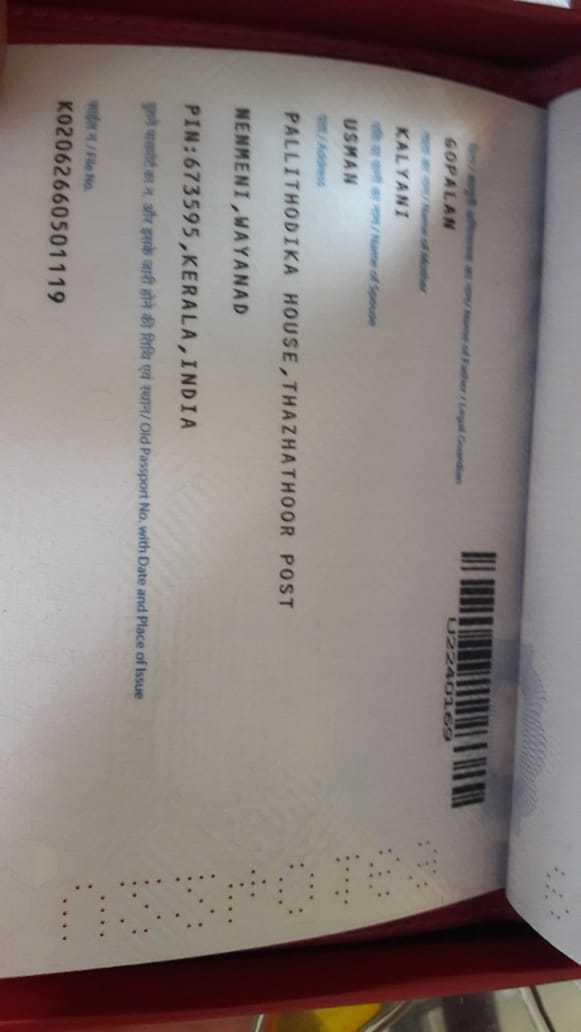File_no: (40, 91, 79, 321)
address: (169, 96, 314, 636)
father_name: (438, 128, 473, 243)
mother_name: (390, 116, 424, 223)
passport_no: (436, 606, 466, 763)
spouse_name: (330, 100, 370, 196)
